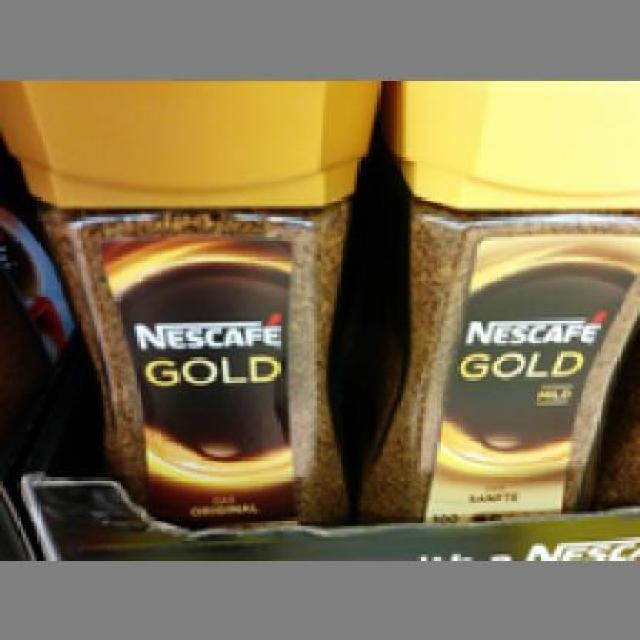Coffee: (0, 77, 383, 526), (348, 77, 638, 514)
